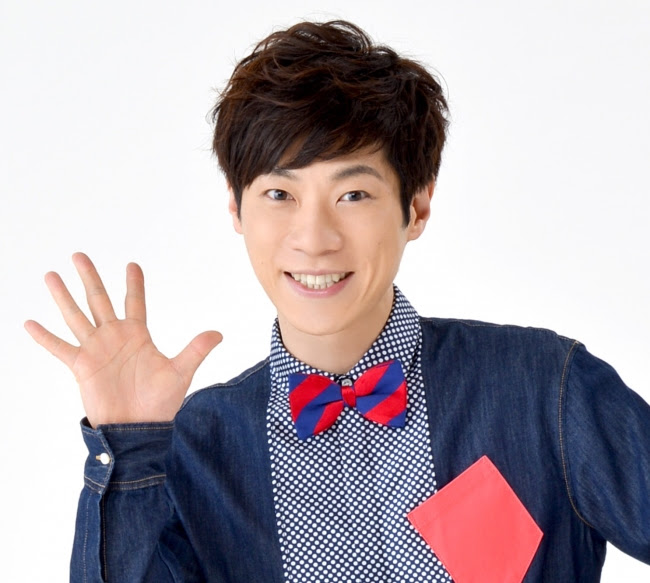face: (227, 140, 432, 334)
hand: (23, 250, 224, 423)
